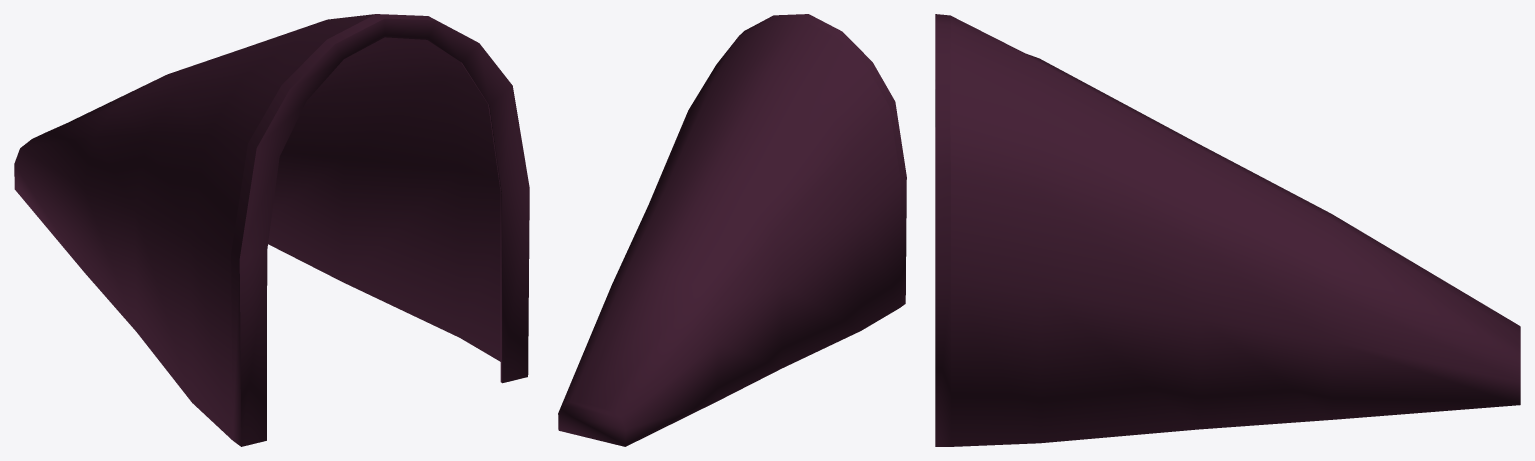
The model's file is tunel.fbx.
3 renders of one model, left to right at view 1: azimuth 30°, elevation 25°; view 2: azimuth 150°, elevation 25°; view 3: azimuth 270°, elevation 25°, orthographic. The views are drawn at different scales.
Visible parts, largest first — view 1: tunel; view 2: tunel; view 3: tunel.
Part boxes in pixels (left/top/right/bottom): tunel: left=14, top=14, right=529, bottom=446; tunel: left=558, top=14, right=906, bottom=446; tunel: left=935, top=14, right=1520, bottom=446.
Size of the model in its own units: 102 by 132 by 194.
